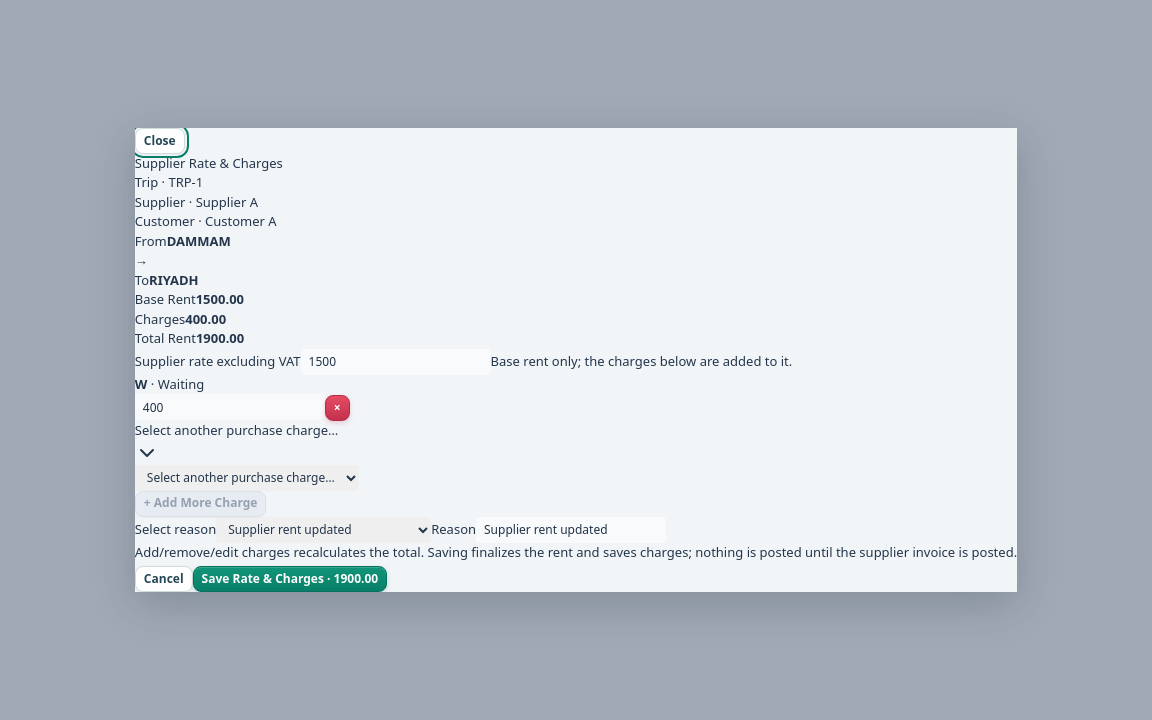
Test: changes base and removes charges with the total recalculated
Expected: the number field named "Waiting amount" is shown, x1=135 y1=394 x2=325 y2=420
Replace the text in the number field labelled "Supplier rate excluding VAT" with "1600" at (396, 362), box x1=301 y1=349 x2=491 y2=375
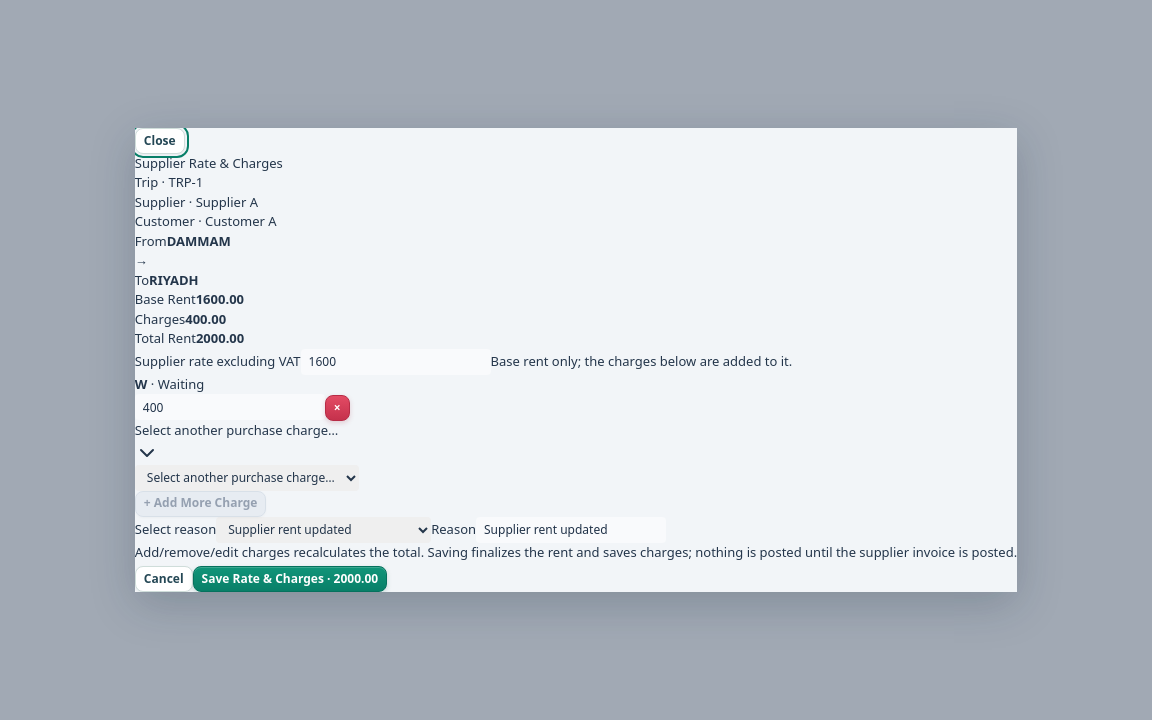
Expected: the button "Save Rate & Charges · 2000.00" is shown, x1=193 y1=566 x2=387 y2=592
Click the button "×".
click(337, 408)  # box x1=325 y1=395 x2=350 y2=421
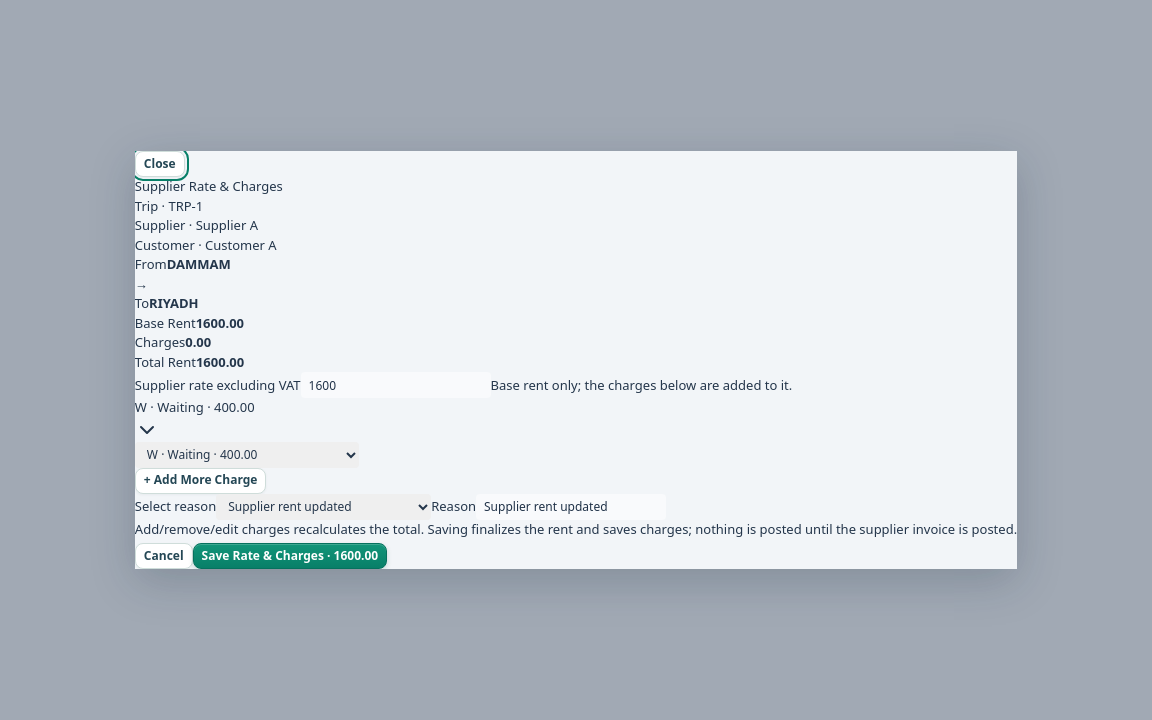
Expected: the button "Save Rate & Charges · 1600.00" is shown, x1=193 y1=543 x2=387 y2=569
